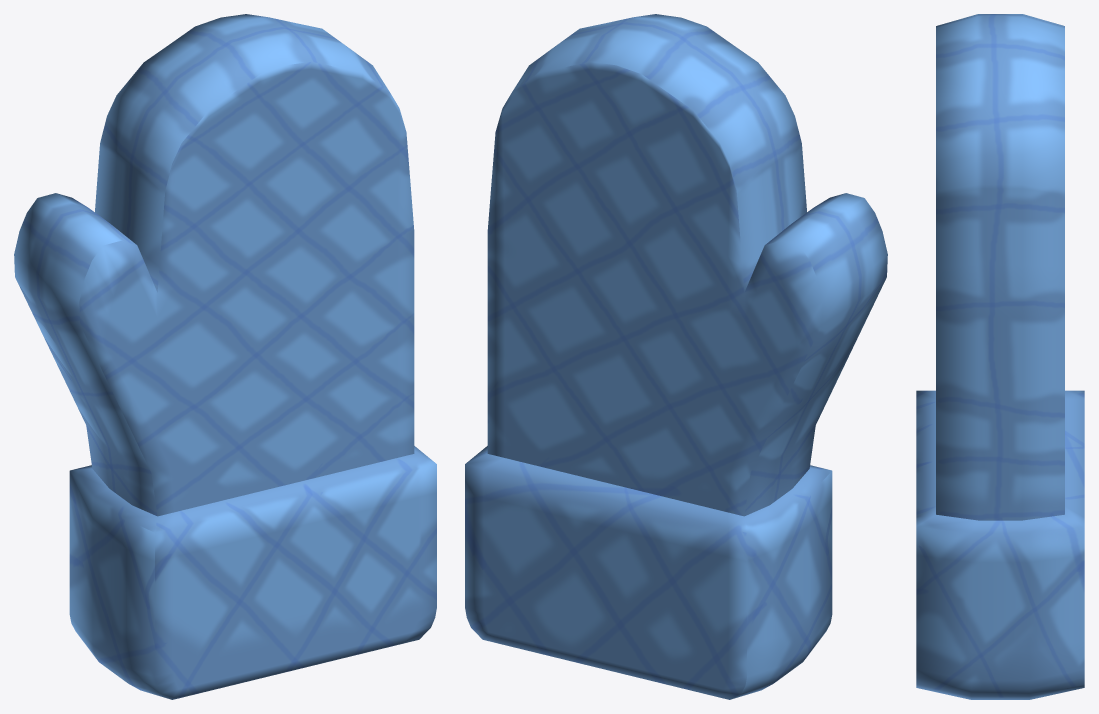
File: W_OvenMitt.fbx
3 views of the same model, side by side, from view 1: azimuth 30°, elevation 25°; view 2: azimuth 150°, elevation 25°; view 3: azimuth 270°, elevation 25° (orthographic).
Visible parts, largest first — view 1: W_OvenMitt; view 2: W_OvenMitt; view 3: W_OvenMitt.
Boxes of the visible parts, x1,y1,x2,y2 form: W_OvenMitt: [14, 14, 436, 699]; W_OvenMitt: [465, 14, 887, 699]; W_OvenMitt: [916, 14, 1084, 699].
Bounding box in the file's own units: 0.4211 × 0.6915 × 0.1725.
